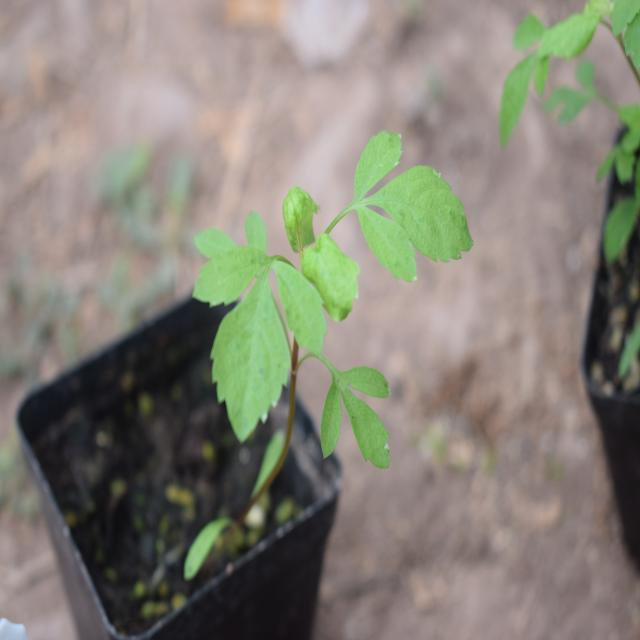Bidens pilosa: (195, 104, 470, 482)
